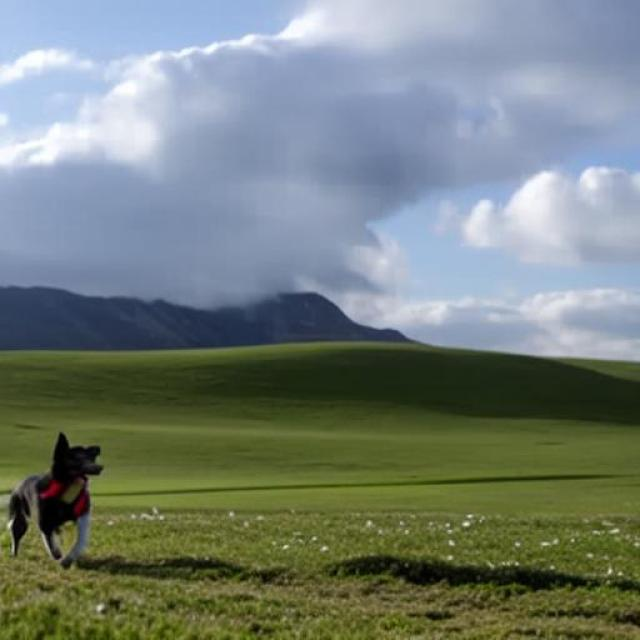Dog: (5, 430, 105, 570)
